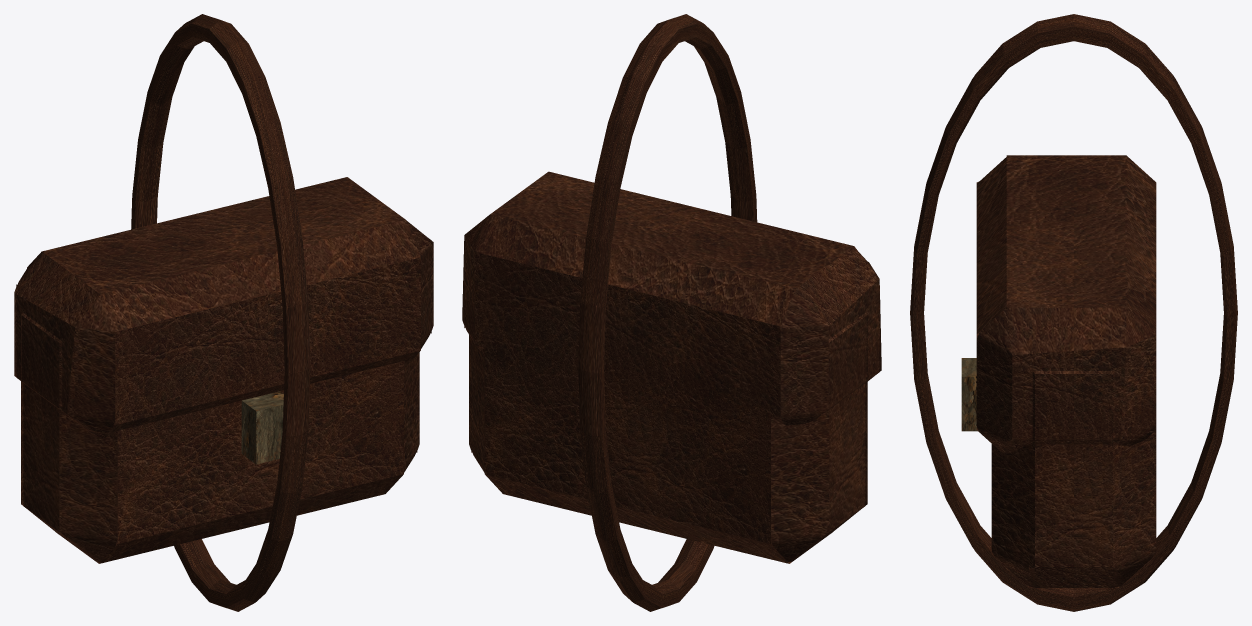
File: leather-satchel-v01-photo.glb
The picture shows the model from 3 angles, left to right: view 1: azimuth 30°, elevation 25°; view 2: azimuth 150°, elevation 25°; view 3: azimuth 270°, elevation 25°; orthographic projection.
Visible parts, largest first — view 1: leather-satchel; view 2: leather-satchel; view 3: leather-satchel.
Boxes of the visible parts, x1,y1,x2,y2 form: leather-satchel: [14, 14, 433, 611]; leather-satchel: [462, 14, 881, 611]; leather-satchel: [910, 14, 1237, 611].
Size of the model in its own units: 0.5758 by 0.88 by 0.4372.
2 materials, 2 textured.
